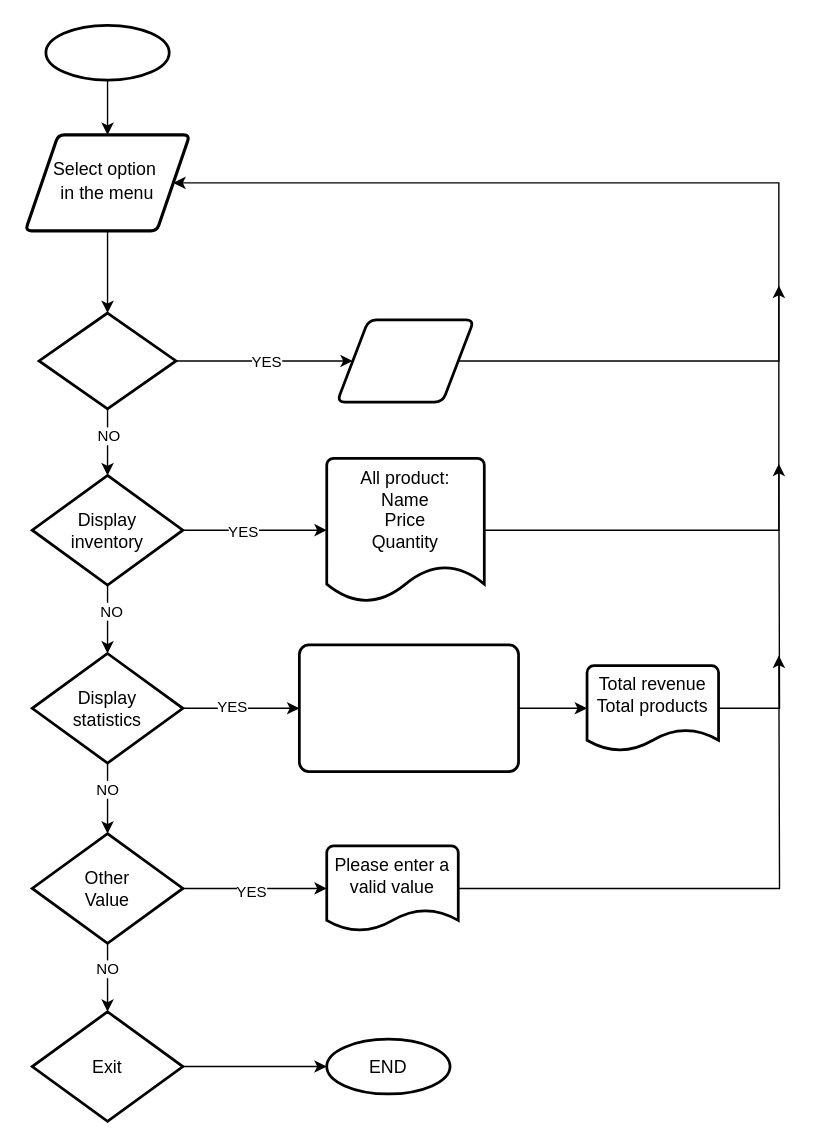
Some shapes in this 815 by 1145 pixel diagram are drawn without their labels. The shapes that lost their labels are listed below. From the top down, each one's box as (x1, y1, x2, y2) in pixels, then its label:
(44, 23, 170, 81): START
(37, 311, 177, 410): Add product
(335, 318, 475, 403): Name Price Quantity
(297, 643, 519, 772): Total revenue = sum all prices * quantities Total products = sum all quantities
